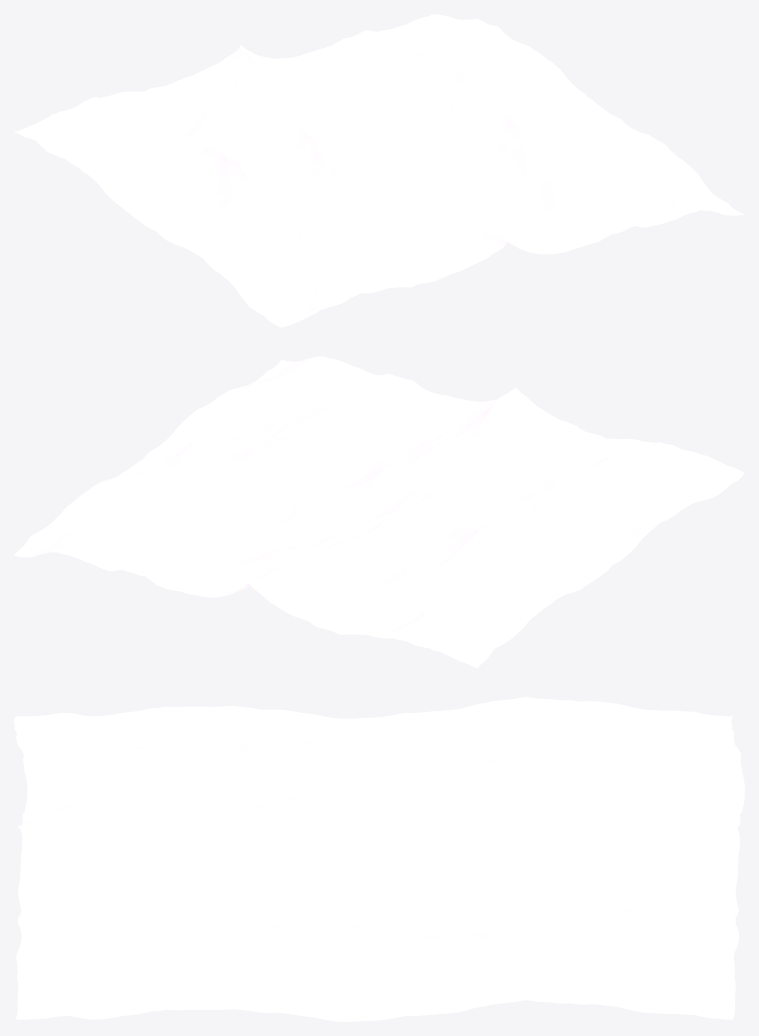
Rendered from ocean1.glb.
3 renders of one model, top to bottom at view 1: azimuth 30°, elevation 25°; view 2: azimuth 150°, elevation 25°; view 3: azimuth 270°, elevation 25°, orthographic. The views are drawn at different scales.
Parts seen in each view (by area): view 1: Plane; view 2: Plane; view 3: Plane.
Part boxes in pixels (x1=…): Plane: x1=14, y1=14, x2=744, y2=327; Plane: x1=14, y1=356, x2=744, y2=668; Plane: x1=14, y1=697, x2=744, y2=1021.
Size of the model in its own units: 50.79 by 3.5 by 50.94.
